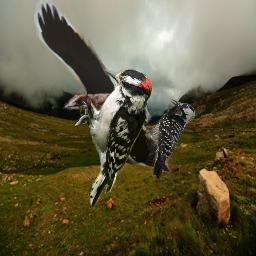Crow: (34, 0, 171, 175)
Woodpecker: (75, 66, 152, 208), (145, 99, 195, 181)
